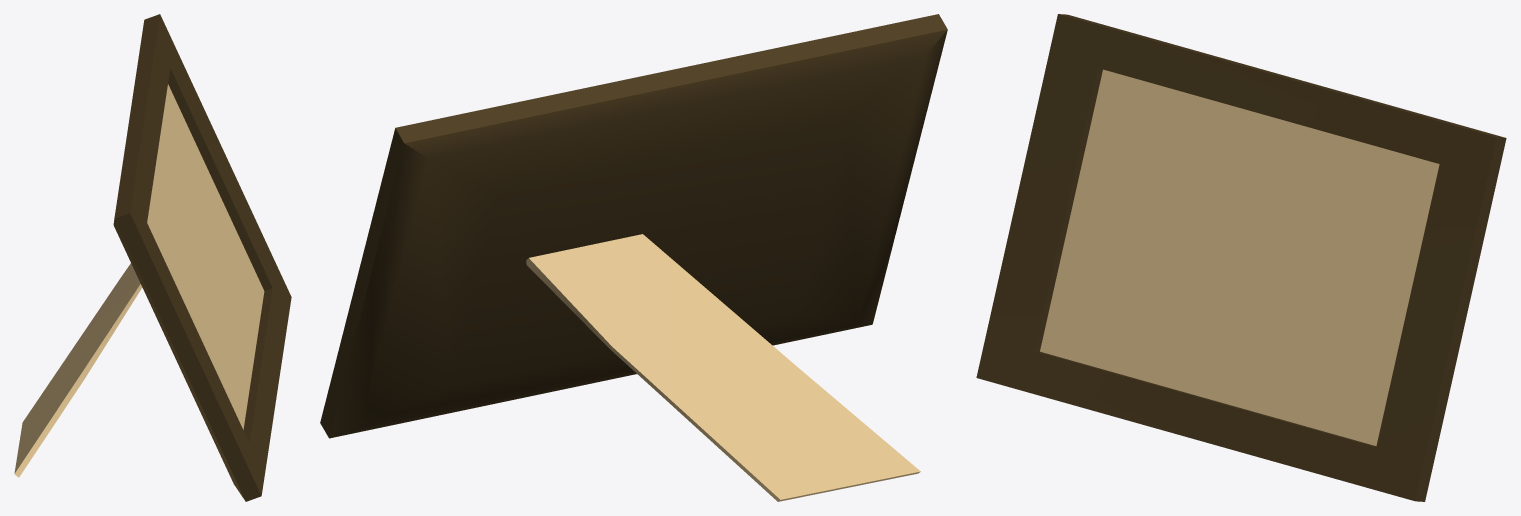
File: PhotoFrameFull.fbx
The picture shows the model from 3 angles, left to right: view 1: azimuth 30°, elevation 25°; view 2: azimuth 150°, elevation 25°; view 3: azimuth 270°, elevation 25°; orthographic projection. The views are drawn at different scales.
Parts seen in each view (by area): view 1: PhotoFrameStand; view 2: PhotoFrameStand; view 3: PhotoFrameStand.
Part boxes in pixels (left/top/right/bottom): PhotoFrameStand: left=14, top=14, right=291, bottom=501; PhotoFrameStand: left=320, top=14, right=947, bottom=501; PhotoFrameStand: left=976, top=14, right=1506, bottom=501.
Bounding box in the file's own units: 34.78 × 26.73 × 38.4.
